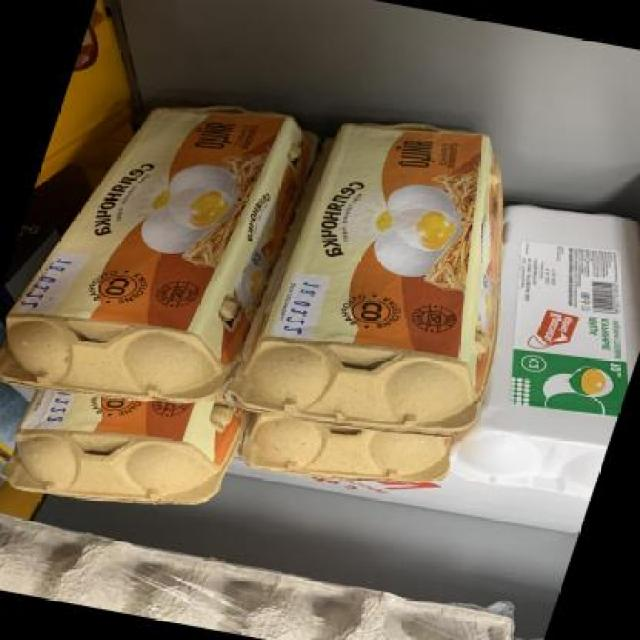Egg: (221, 105, 554, 452), (0, 77, 331, 423), (422, 196, 640, 509), (0, 382, 234, 520), (250, 409, 453, 500)
